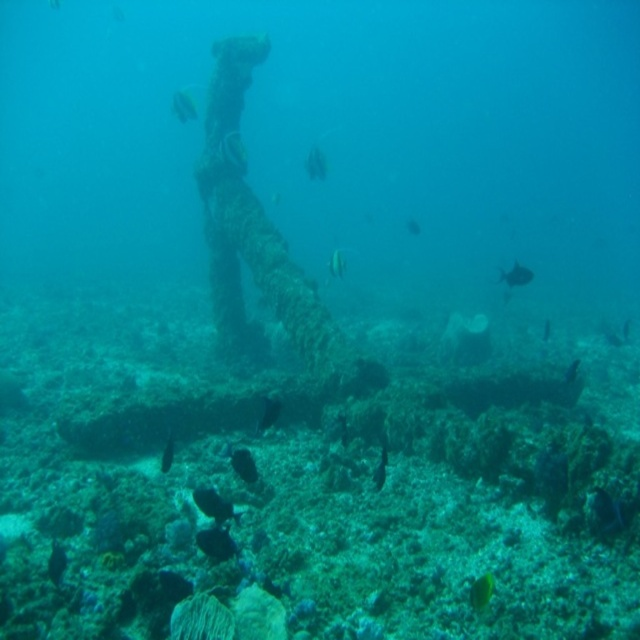Fish: (197, 521, 244, 567), (196, 483, 243, 527), (230, 439, 264, 488), (592, 491, 623, 536), (470, 571, 500, 616), (217, 133, 248, 173), (503, 261, 533, 296), (302, 145, 327, 180), (159, 432, 176, 480), (259, 392, 280, 429), (327, 248, 347, 281), (374, 452, 390, 493), (177, 88, 193, 120)
